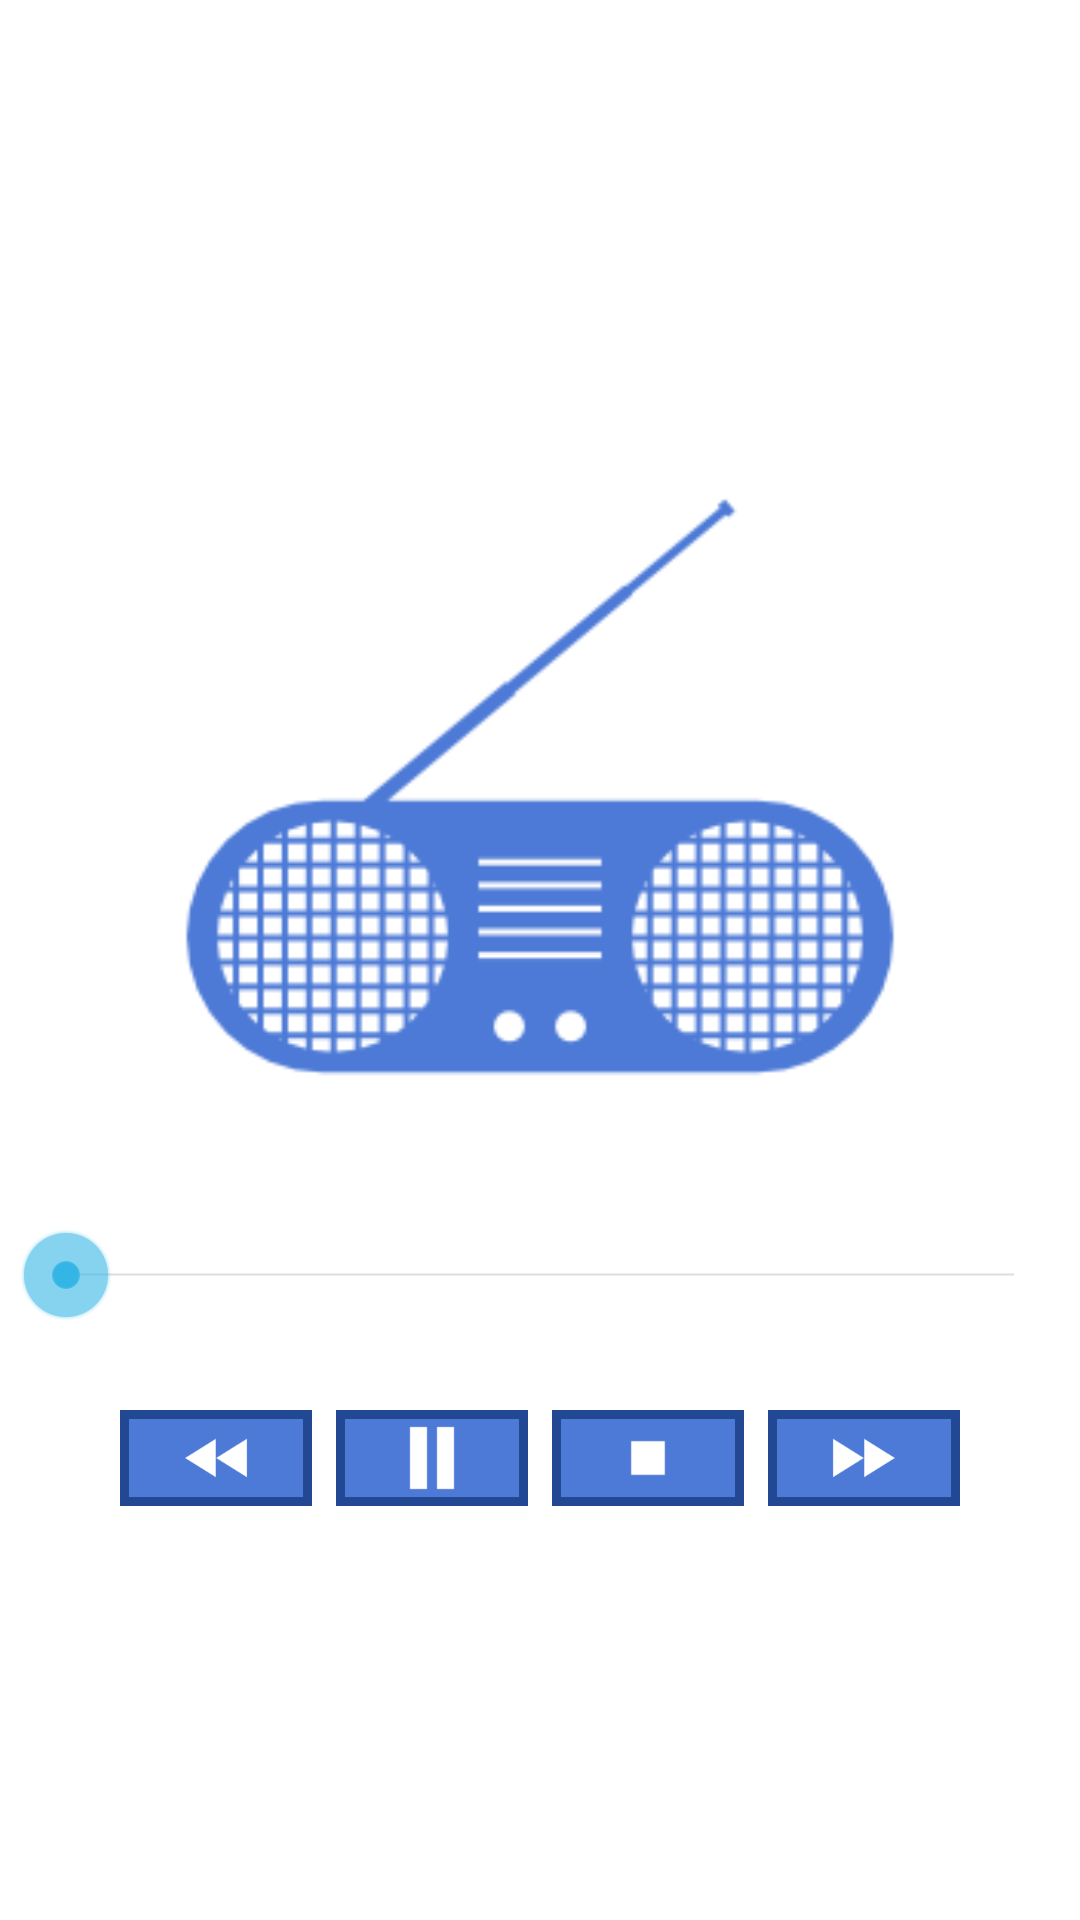

Named icons in this screenshot (1080×1920) and their centers, point (x, y):
上一節: point (216, 1458)
下一節: point (864, 1458)
停止: point (648, 1458)
播放/暫停: point (432, 1458)
